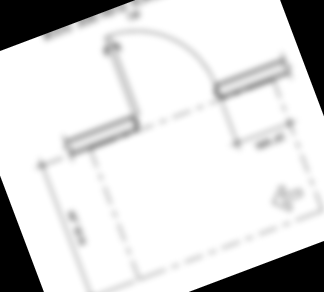door: (97, 4, 221, 132)
